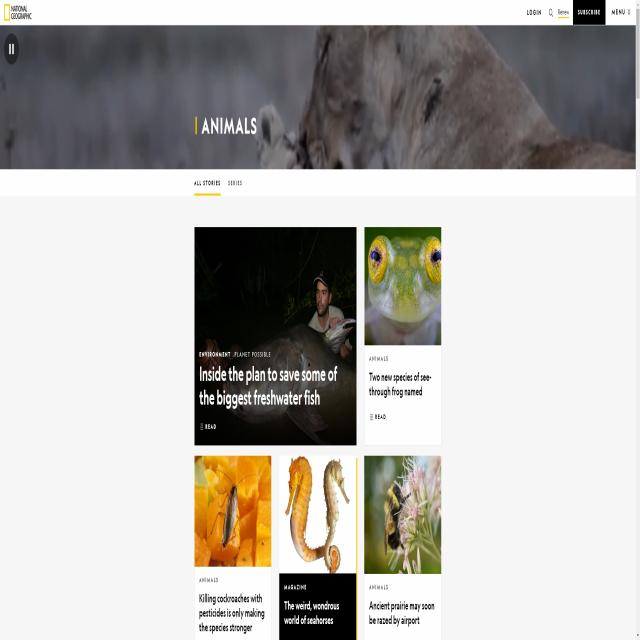menu-bar: (525, 1, 633, 23)
tab-bar: (192, 171, 244, 196)
